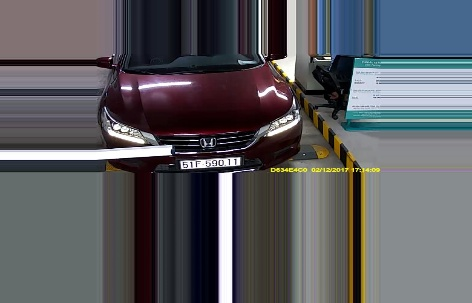plate: (179, 154, 242, 168)
